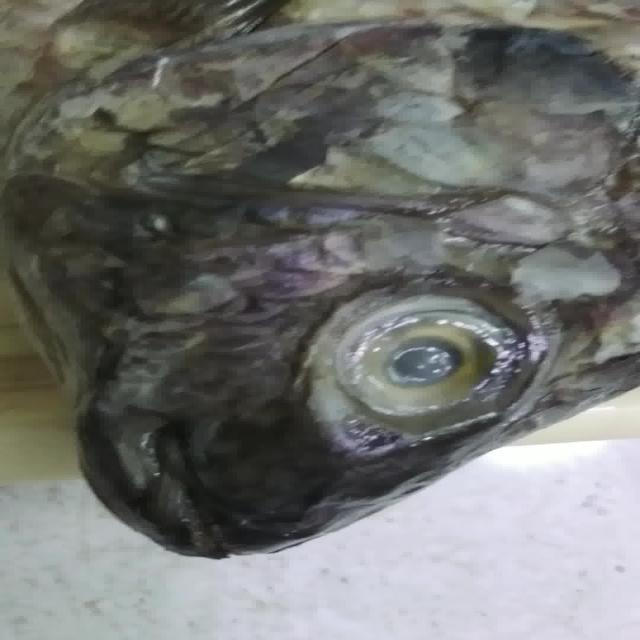Non-Fresh: (308, 270, 541, 443)
